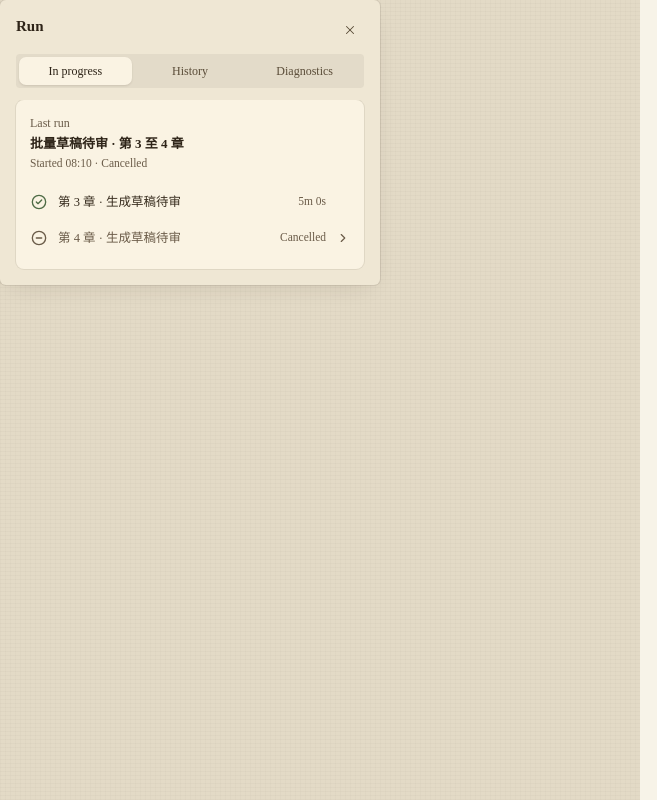
Test: 运行侧页 › 取消时正在写的那一章：步骤行标已取消，展开历史也不出现红叉和失败（en-US）
The image size is (657, 800).
expect the list item with class "run-step" shows "Cancelled": met, box [24,221,356,255]
Click the tab "History" at (190,71), box [134,57,246,85]
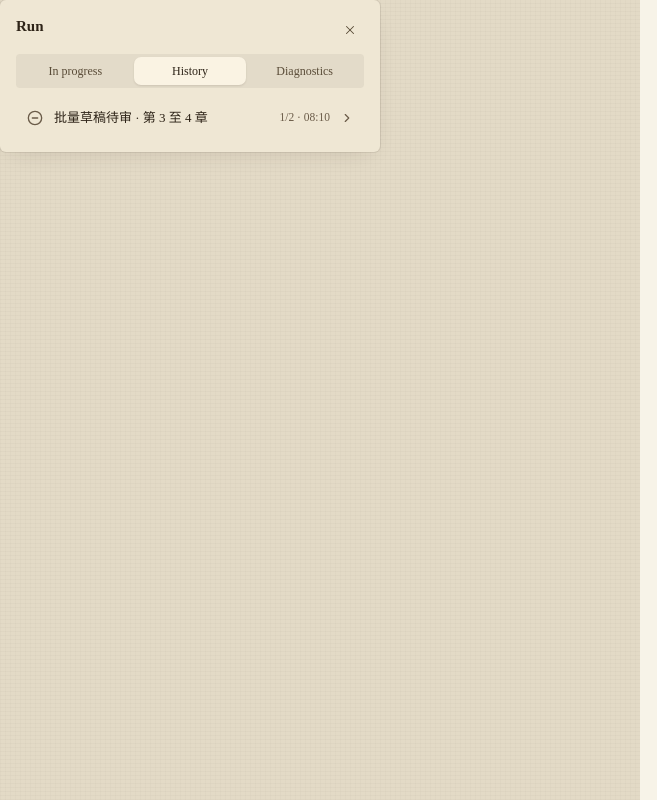
expect the button "批量草稿待审 · 第 3 至 4 章 1/2 · 08:10" is shown: met
Click the button "批量草稿待审 · 第 3 至 4 章 1/2 · 08:10" at (190,118), box [16,100,364,136]
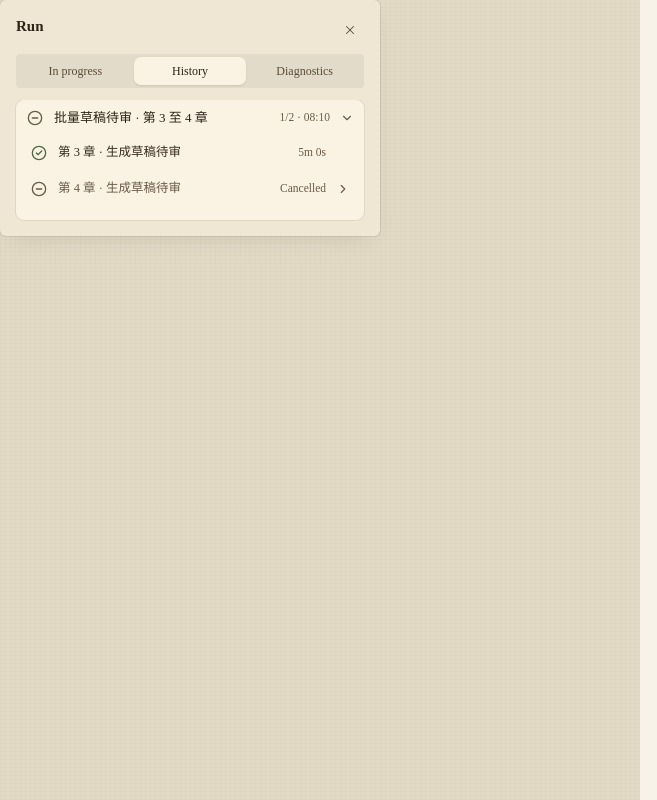
expect the list item with class "run-step" shows "Cancelled": met, box [24,172,356,206]
